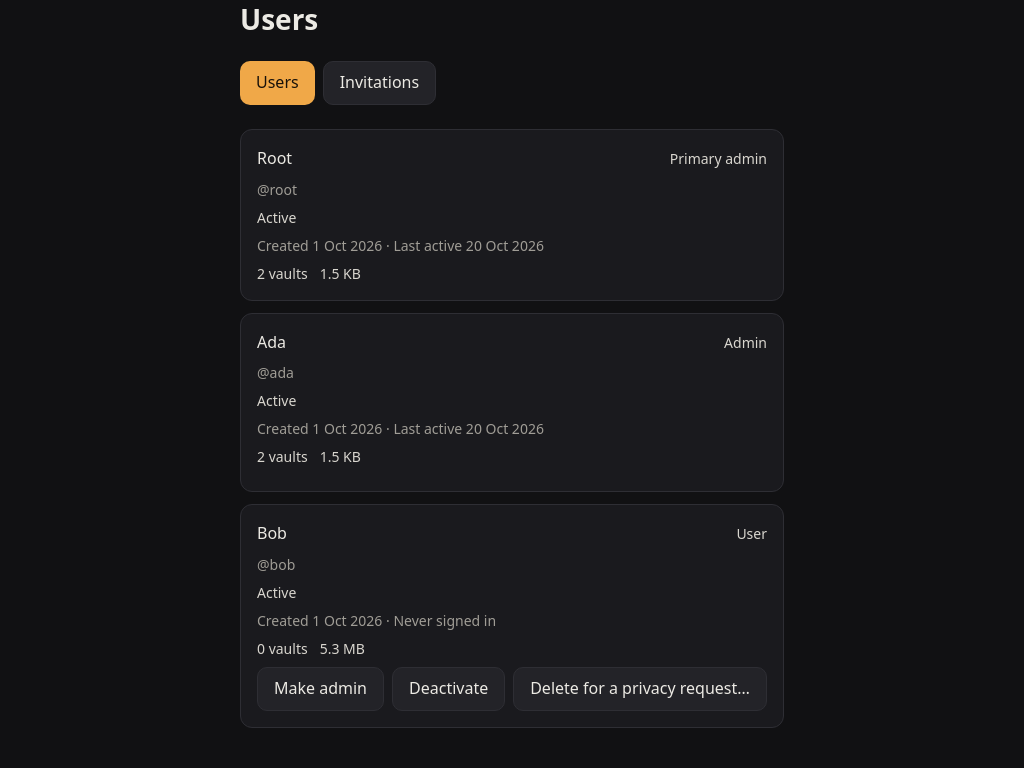
Test: Admin users › keeps the promotion open with the server's sentence for a wrong password
(page scrolled)
Click the button with aria-label "Make Bob an admin". click: (320, 689)
box: [257,667,384,711]
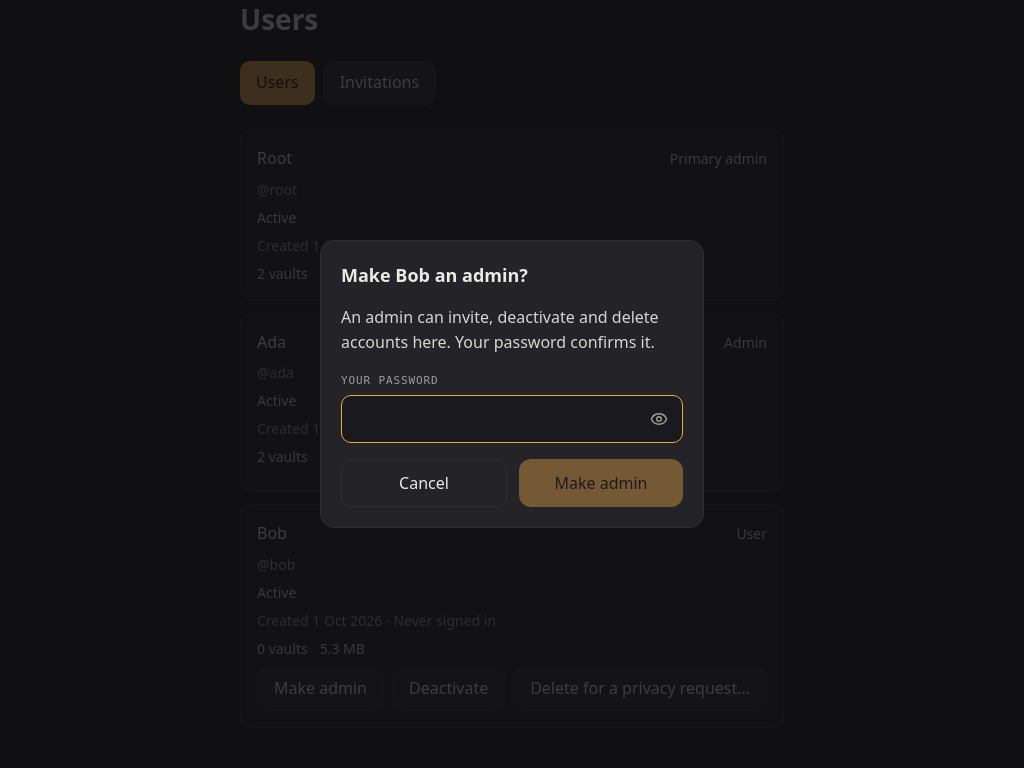
Type "not my password" into the password field labelled "Your password". click: (512, 419)
box: [341,395,683,443]
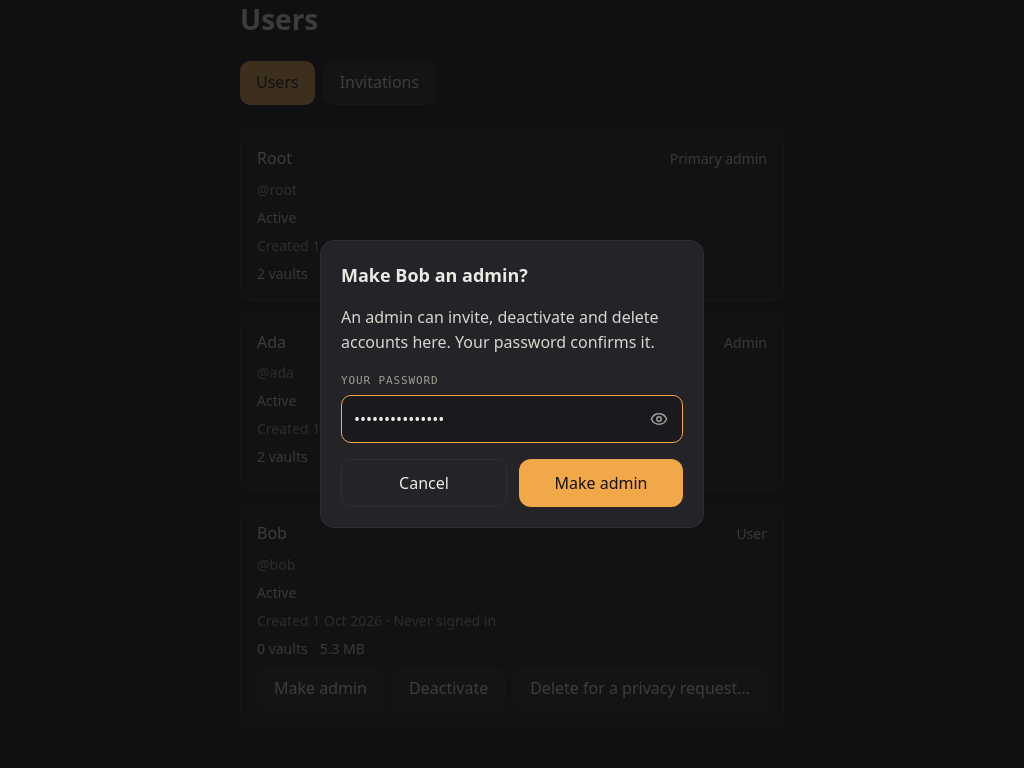
Click the button "Make admin". click: (601, 483)
box: [519,459,683,507]
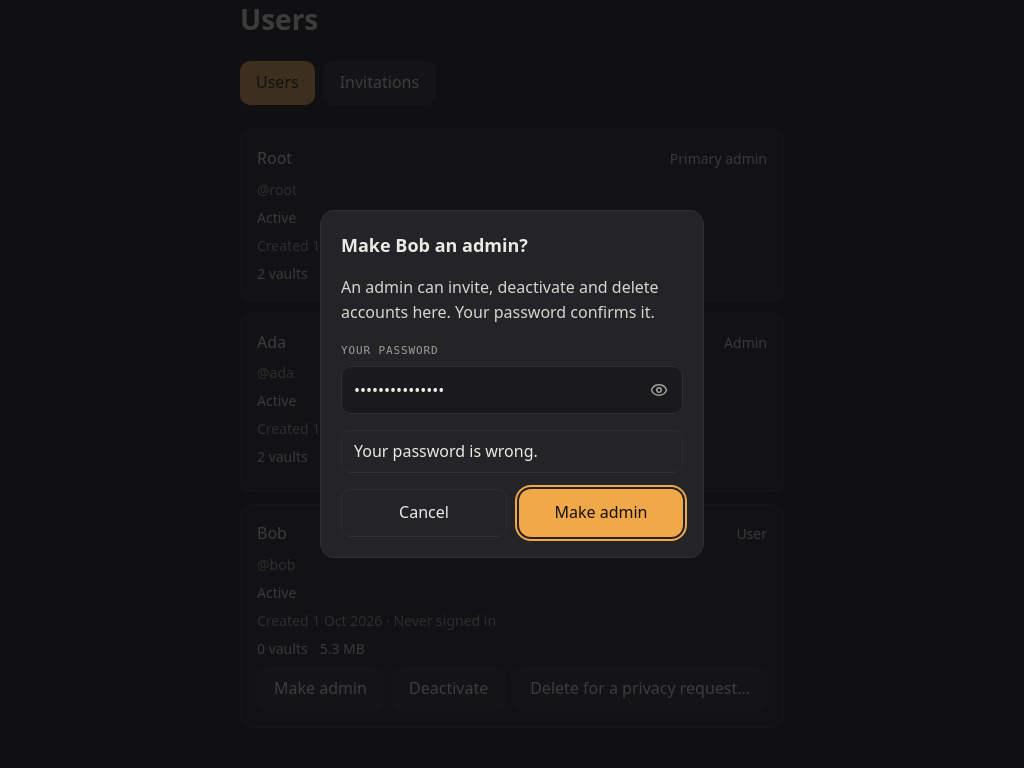
Result: the message reads "Your password is wrong." at [354,440,538,462]
